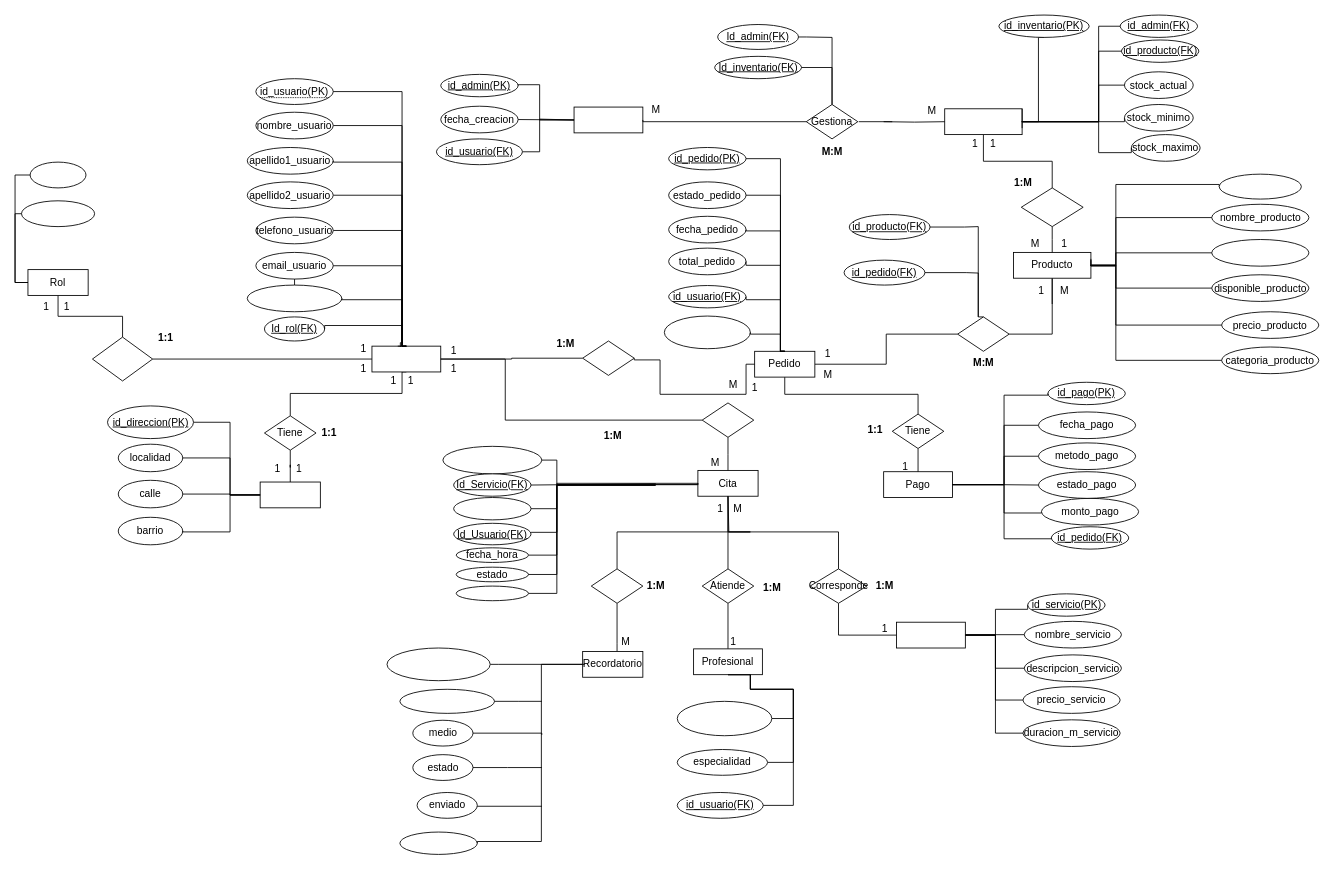
This 1334x869 diagram has some shape labels left out. Each missing label, with the centre of its shape:
"admin" belongs at (x=608, y=119).
"Agenda" belongs at (x=727, y=419).
"Contiene" belongs at (x=983, y=333).
"descripcion_producto" belongs at (x=1260, y=252).
"Dirección" belongs at (x=289, y=494).
"fecha_programada" belongs at (x=446, y=700).
"Genera" belongs at (x=616, y=585).
"id_cita(FK)" belongs at (x=438, y=842).
"Id_Cita(PK)" belongs at (x=492, y=508).
"id_direccion(FK)" belongs at (x=706, y=332).
"id_producto(PK)" belongs at (x=1259, y=186).
"Id_Profesional(FK)" belongs at (x=492, y=459).
"id_profesional(PK)" belongs at (x=724, y=718).
"id_recordatorio(PK)" belongs at (x=438, y=664).
"id_rol(PK)" belongs at (x=57, y=174).
"Inventario" belongs at (x=983, y=121).
"nombre_rol" belongs at (x=58, y=213).
"notas" belongs at (x=491, y=593).
"password_usuario" belongs at (x=294, y=298).
"Pertenece" belongs at (x=122, y=358).
"Realiza" belongs at (x=608, y=357).
"Registrado" belongs at (x=1051, y=207).
"Servicio" belongs at (x=930, y=634).
"Usuario" belongs at (x=406, y=358).
